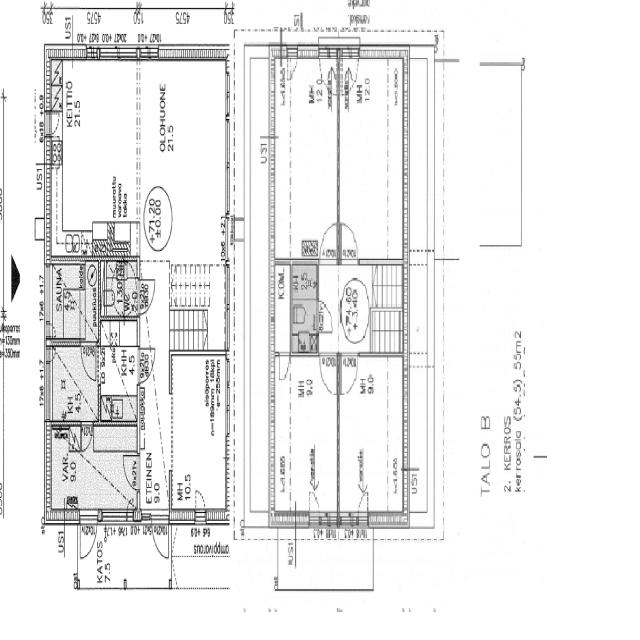door: (319, 218, 338, 266), (339, 218, 359, 262), (339, 348, 358, 394), (319, 349, 338, 395), (80, 513, 97, 561), (152, 514, 170, 558), (316, 299, 334, 334), (358, 485, 372, 525), (308, 486, 321, 524), (345, 54, 360, 86), (277, 349, 291, 383), (194, 484, 207, 516), (288, 50, 298, 78)
window: (221, 107, 234, 217), (95, 40, 138, 66), (220, 257, 231, 351), (222, 353, 232, 437), (101, 508, 131, 526), (223, 64, 232, 122), (456, 50, 482, 68)
zone: (139, 58, 229, 262), (54, 56, 140, 255), (275, 55, 339, 264), (339, 55, 403, 264), (338, 351, 406, 519), (274, 350, 339, 519), (169, 348, 228, 518), (81, 419, 139, 514), (99, 315, 139, 421), (50, 338, 99, 422), (48, 258, 90, 340), (339, 265, 371, 350), (99, 254, 140, 318), (291, 259, 318, 355), (50, 424, 80, 508), (408, 256, 431, 362)
